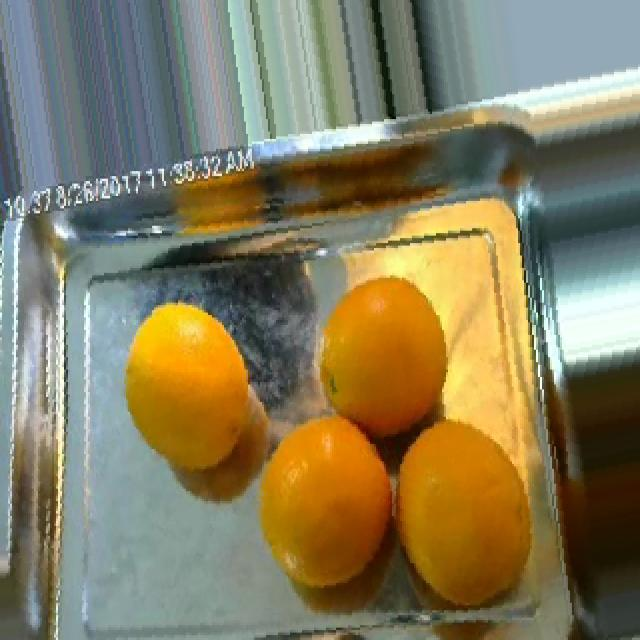Fruit: (112, 285, 270, 491)
